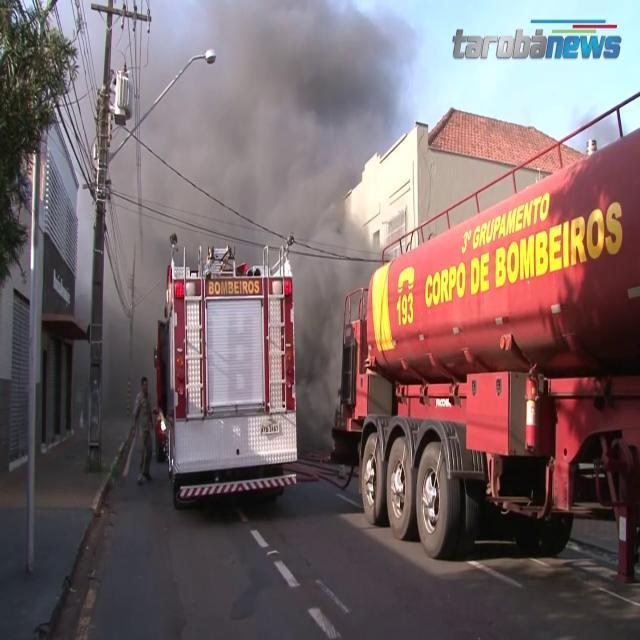Smoke: (155, 6, 396, 227), (298, 239, 370, 436)
